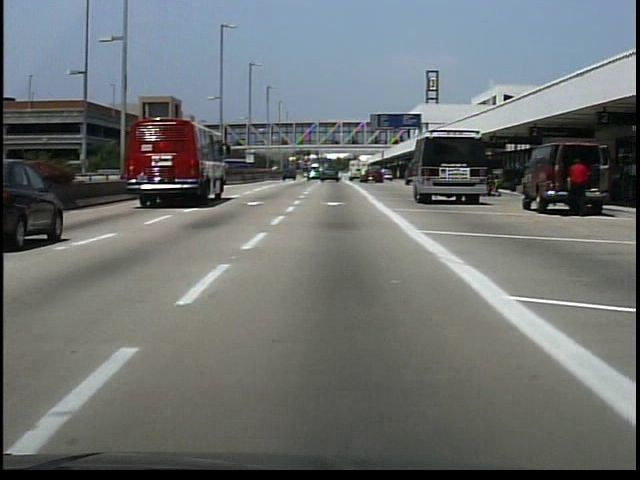person: (566, 157, 587, 216), (378, 166, 389, 186)
